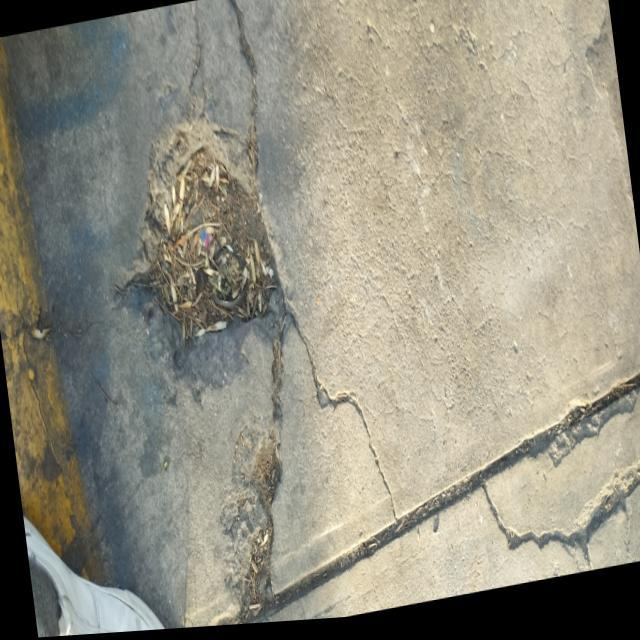hole: (98, 111, 302, 415)
